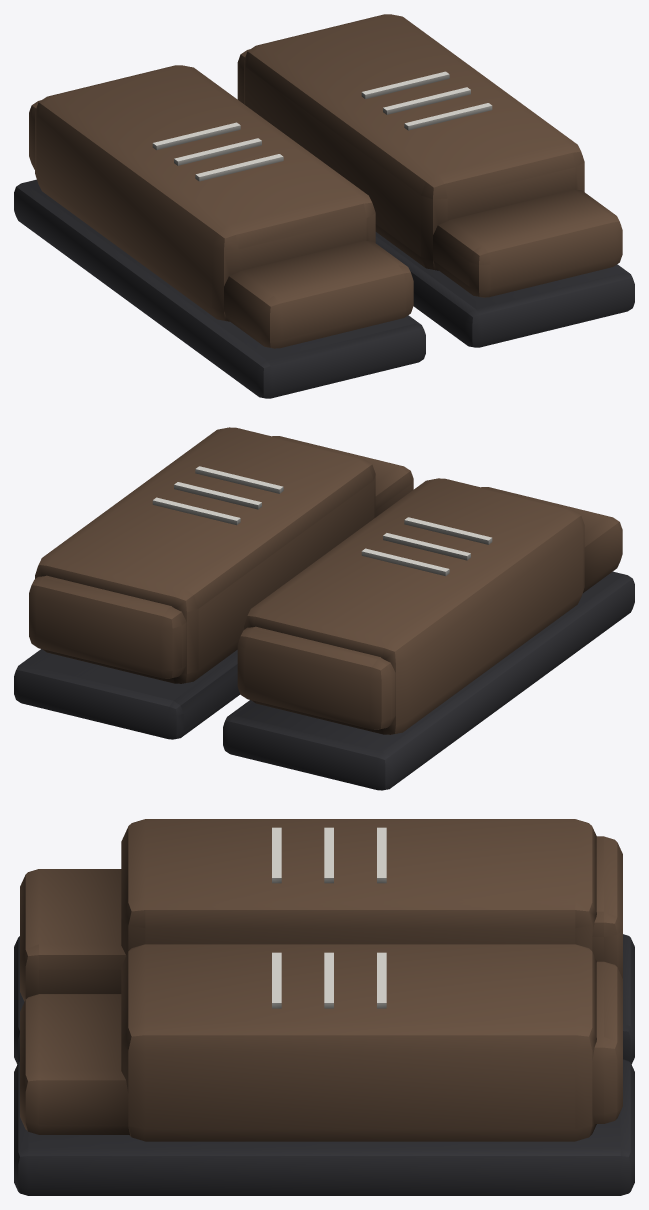
The model's file is shoe_pair.glb.
3 renders of one model, top to bottom at view 1: azimuth 30°, elevation 25°; view 2: azimuth 150°, elevation 25°; view 3: azimuth 270°, elevation 25°, orthographic. The views are drawn at different scales.
Parts seen in each view (by area): view 1: shoe_pair; view 2: shoe_pair; view 3: shoe_pair.
Part boxes in pixels (x1,y1,x2,y2): shoe_pair: (14, 14, 634, 398); shoe_pair: (14, 427, 634, 790); shoe_pair: (14, 819, 634, 1195).
Size of the model in its own units: 0.224 by 0.08 by 0.26.
